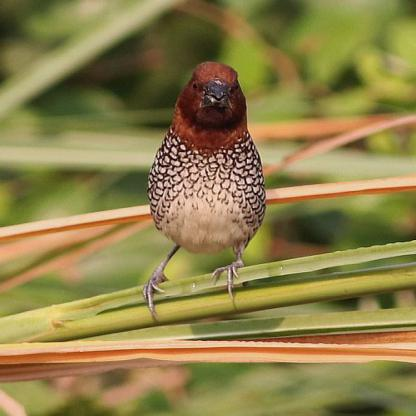Burung: (142, 60, 266, 322)
